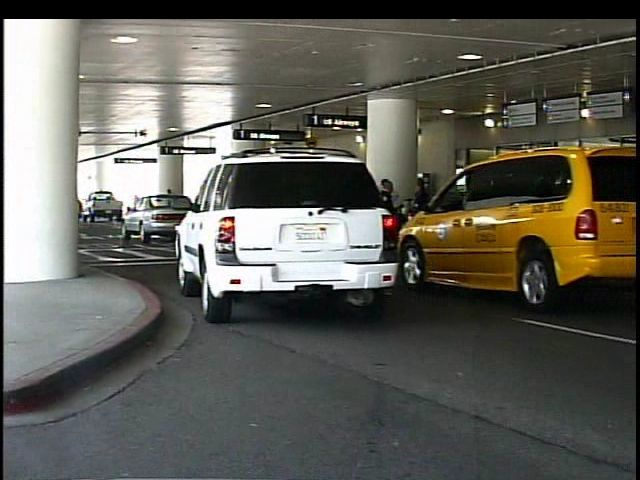person: (527, 168, 556, 261)
